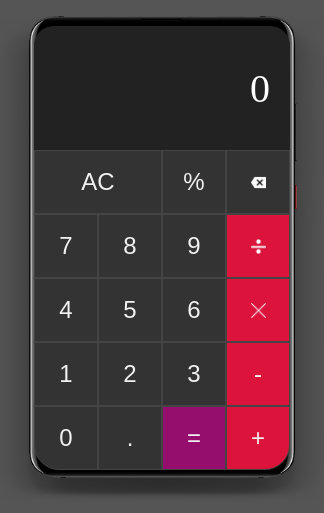
Test: Test calculator › Enter a number of numbers and click on the AC, the display should return to 0
Check: the text "0" is shown, box 34,26 -> 290,150
What coordinates should you click on to do the following:
click the button "7"
I would click on:
 (66, 246)
Its box is 34,214 -> 98,278.
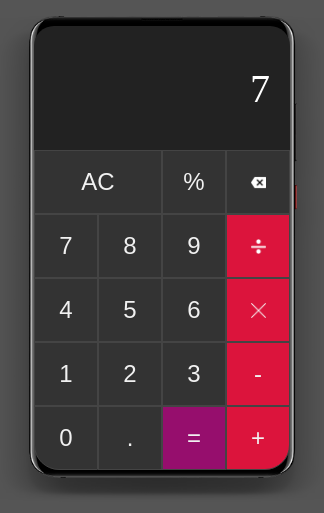
What coordinates should you click on to do the following:
click the button "7"
I would click on:
 (66, 246)
Its box is 34,214 -> 98,278.
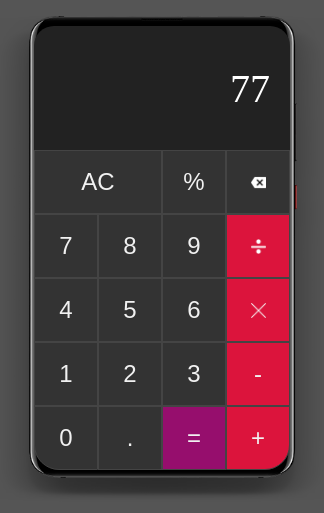
What coordinates should you click on to do the following:
click the button "7"
I would click on:
 (66, 246)
Its box is 34,214 -> 98,278.
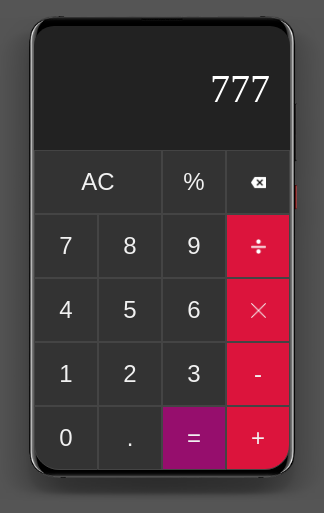
What coordinates should you click on to do the following:
click the button "AC"
I would click on:
 (98, 182)
Its box is 34,150 -> 162,214.
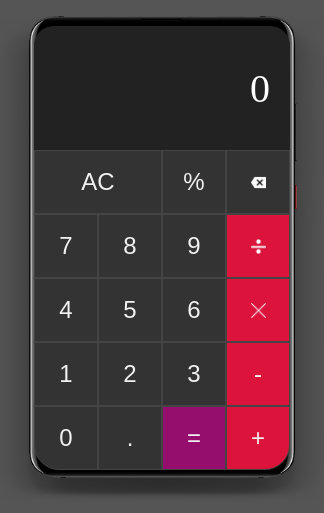
Check: the text "0" is shown, box 34,26 -> 290,150
